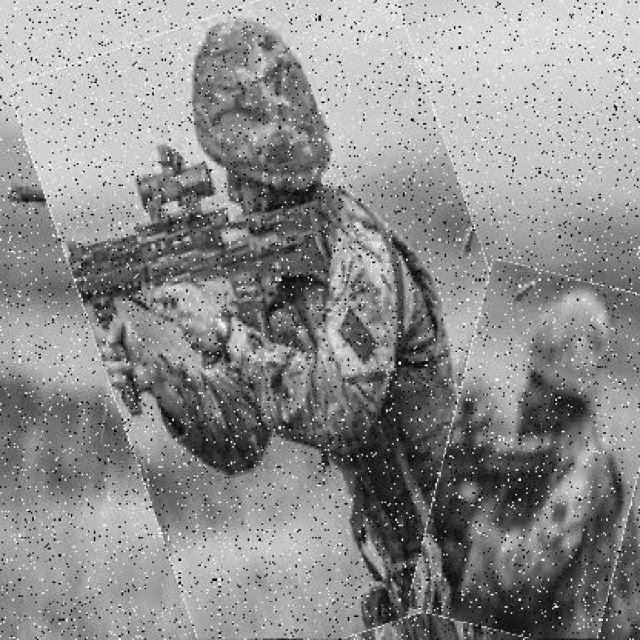Person: (54, 1, 542, 639), (427, 269, 640, 640)
